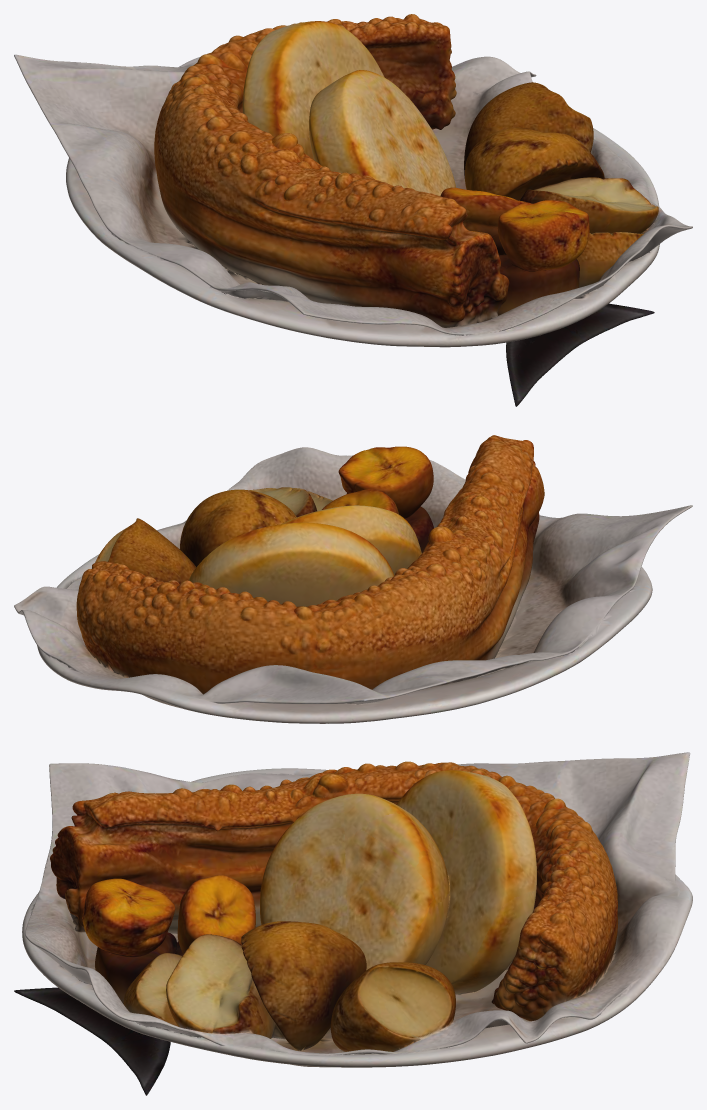
File: picar-tardear-chicharron.glb
The picture shows the model from 3 angles, top to bottom: view 1: azimuth 30°, elevation 25°; view 2: azimuth 150°, elevation 25°; view 3: azimuth 270°, elevation 25°; orthographic projection. The views are drawn at different scales.
Parts seen in each view (by area): view 1: tripo_node_75a29b75-4509-4778-8a9e-7812ce88b74b; view 2: tripo_node_75a29b75-4509-4778-8a9e-7812ce88b74b; view 3: tripo_node_75a29b75-4509-4778-8a9e-7812ce88b74b.
Boxes of the visible parts, x1,y1,x2,y2 form: tripo_node_75a29b75-4509-4778-8a9e-7812ce88b74b: (14,14,692,406); tripo_node_75a29b75-4509-4778-8a9e-7812ce88b74b: (14,435,692,723); tripo_node_75a29b75-4509-4778-8a9e-7812ce88b74b: (14,752,692,1095).
Bounding box in the file's own units: 0.881 × 0.3496 × 0.9799.
Materials: 1 (1 with a texture image).
